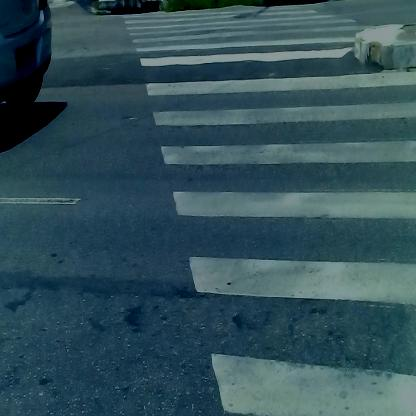crosswalk: (112, 11, 416, 416)
